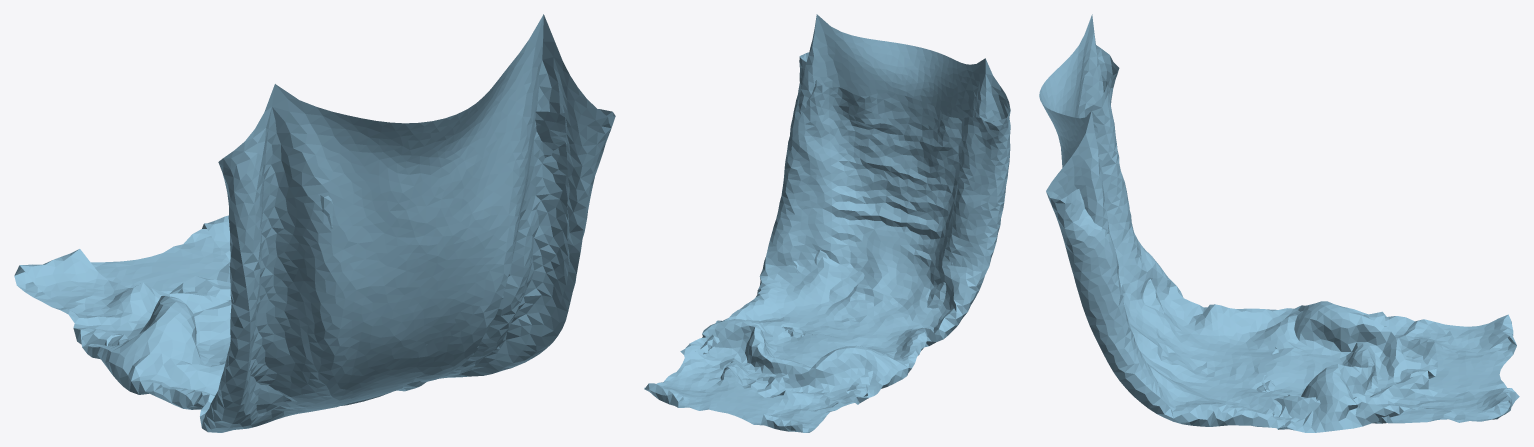
File: frame_08.glb
The picture shows the model from 3 angles, left to right: view 1: azimuth 30°, elevation 25°; view 2: azimuth 150°, elevation 25°; view 3: azimuth 270°, elevation 25°; orthographic projection. The views are drawn at different scales.
Visible parts, largest first — view 1: frame_08.obj; view 2: frame_08.obj; view 3: frame_08.obj.
Boxes of the visible parts, left/top/right/bottom form: frame_08.obj: left=14, top=14, right=615, bottom=432; frame_08.obj: left=644, top=14, right=1010, bottom=432; frame_08.obj: left=1039, top=14, right=1519, bottom=432.
Bounding box in the file's own units: 0.919 × 1 × 1.38.
